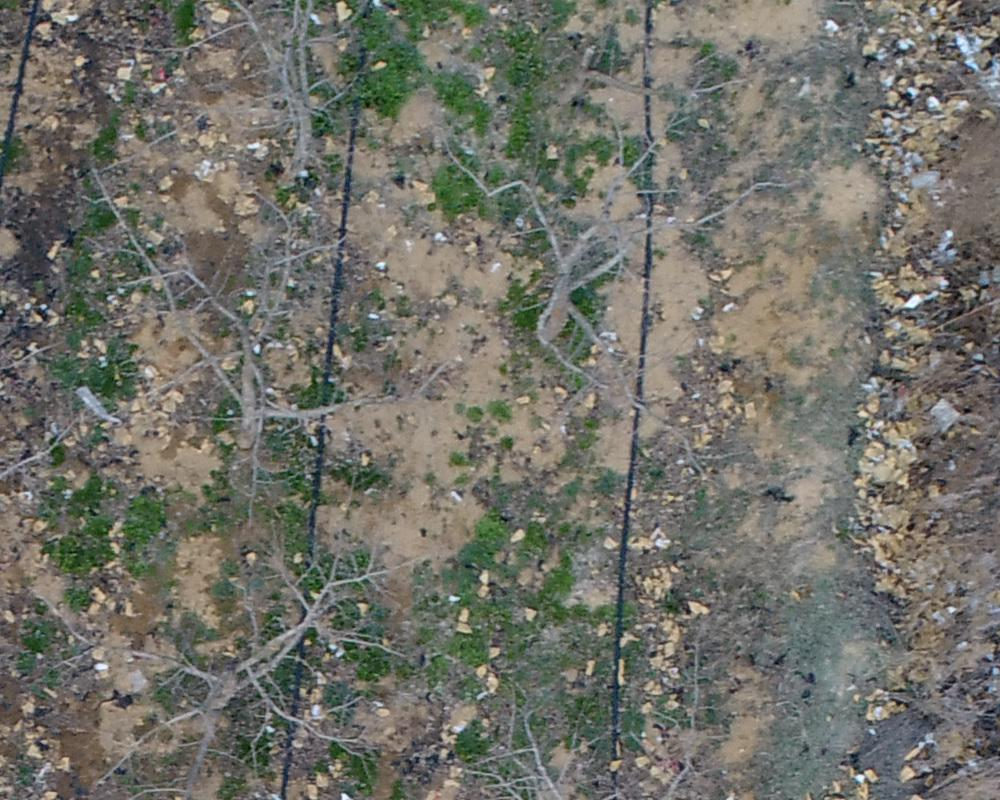apple: (73, 170, 394, 499), (58, 507, 434, 782), (434, 79, 705, 441)
